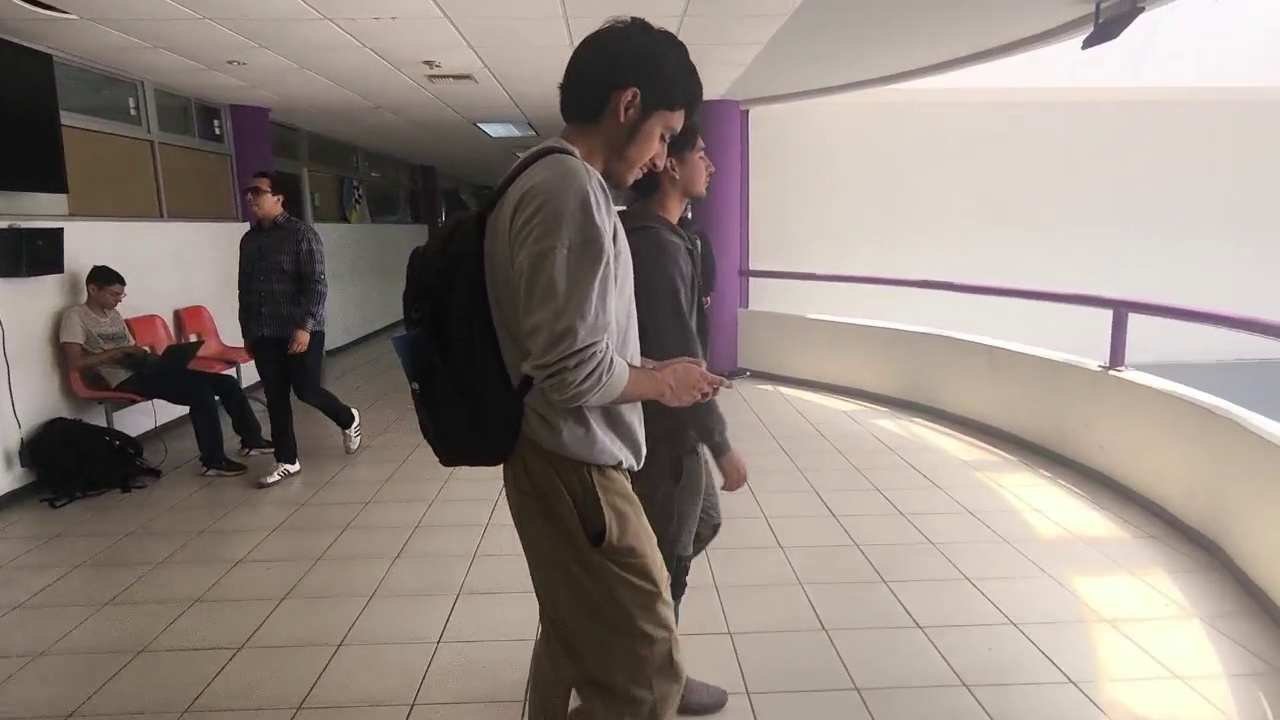mixto2: (704, 359, 752, 384)
